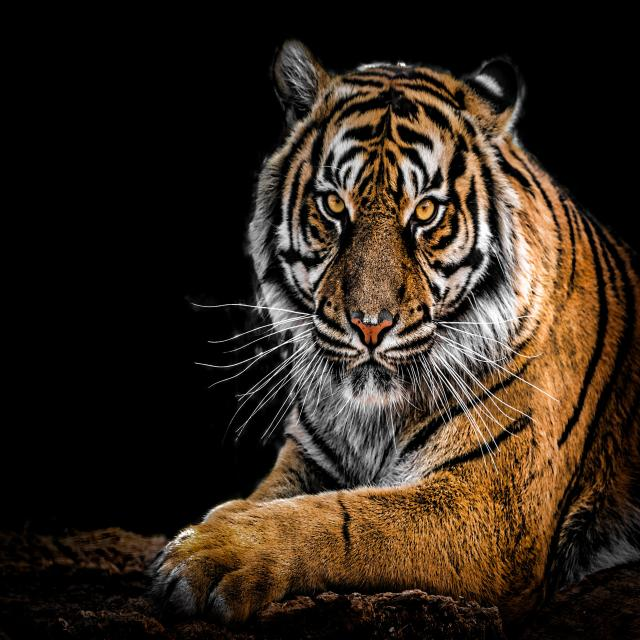animal: (145, 26, 640, 639)
